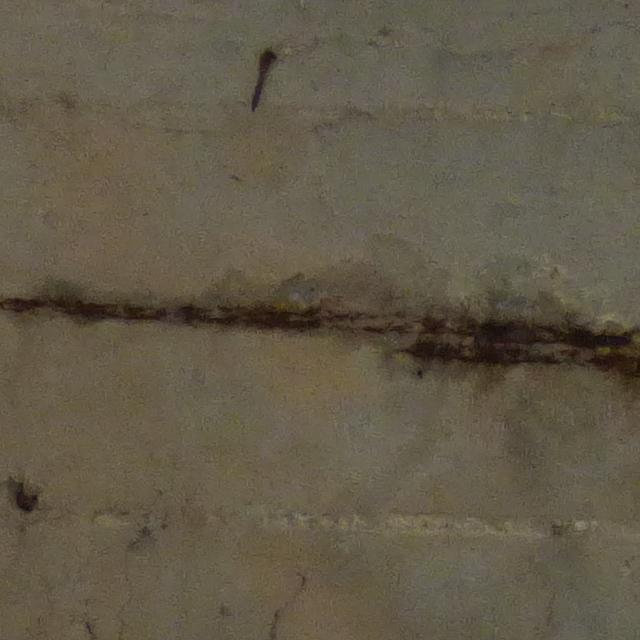Rust: (4, 290, 636, 388), (248, 48, 277, 117), (14, 479, 40, 515)
